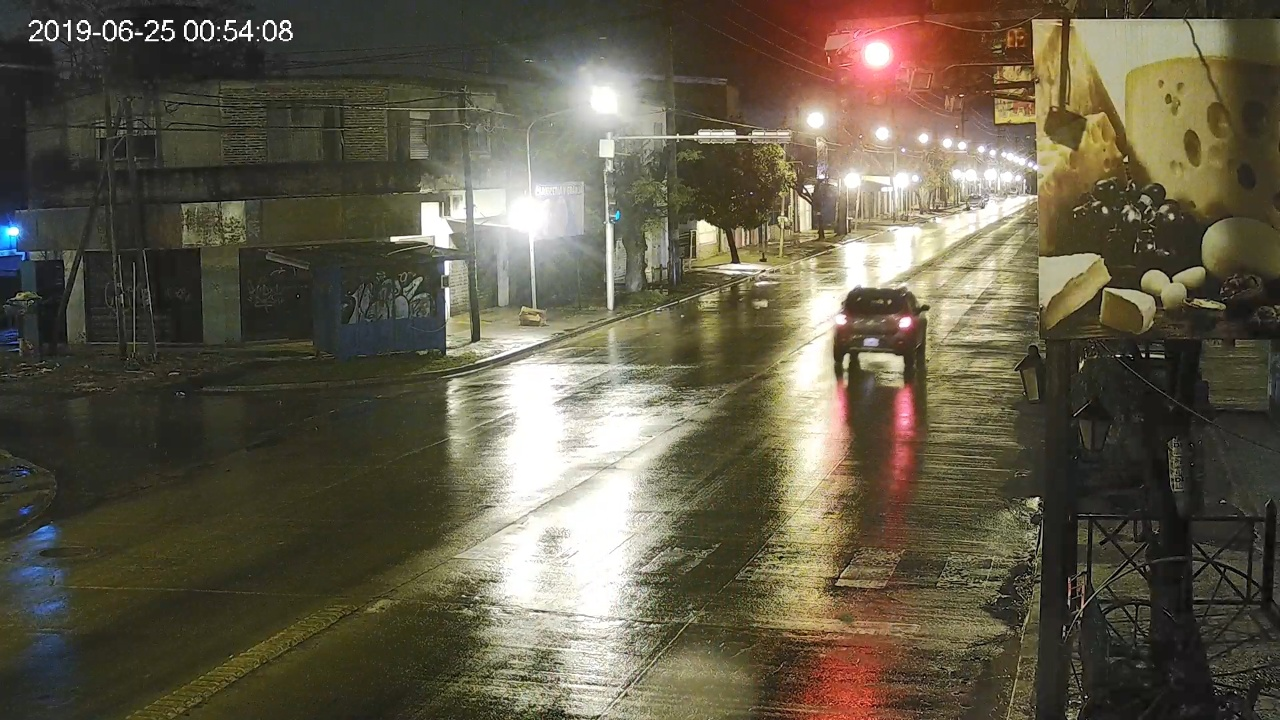car: (834, 285, 930, 366)
traffic light: (867, 42, 887, 104)
